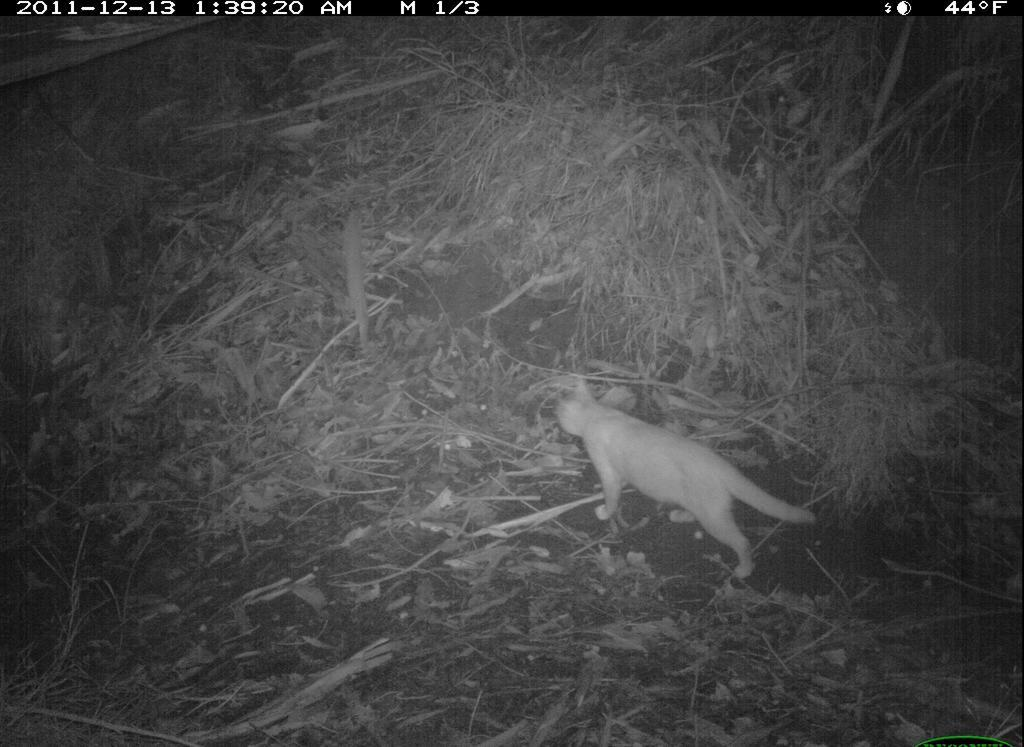cat: (537, 335, 839, 596)
